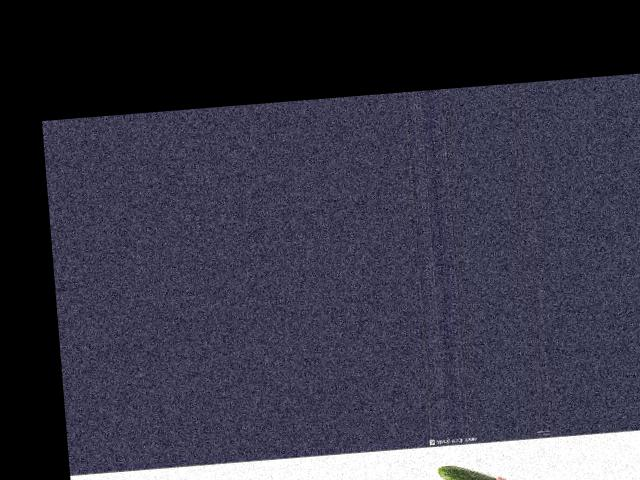cucumber: (437, 457, 545, 480)
